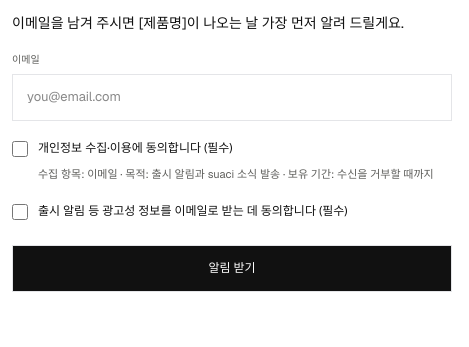
Test: WaitlistForm › 동의 둘 중 하나라도 없으면 → 보내지 않고 안내
Type "a@b.co" into the field labelled "이메일" at (232, 98), box left=12, top=74, right=452, bottom=121
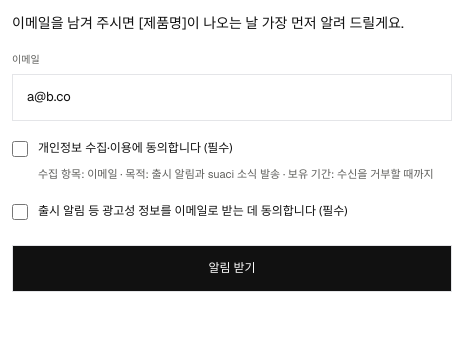
Click the checkbox labelled "개인정보 수집·이용에 동의합니다 (필수)" at (20, 149), box left=12, top=141, right=28, bottom=157
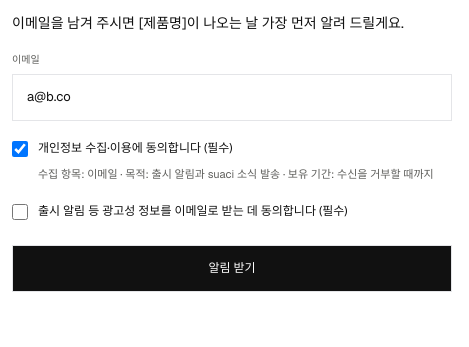
Click the button "알림 받기" at (232, 269), box left=12, top=245, right=452, bottom=292
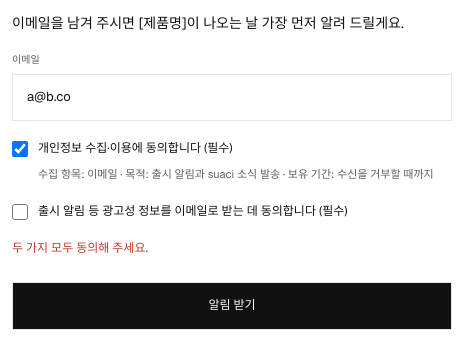
expect the message reads "두 가지 모두 동의해 주세요.": met, box left=12, top=240, right=148, bottom=256
